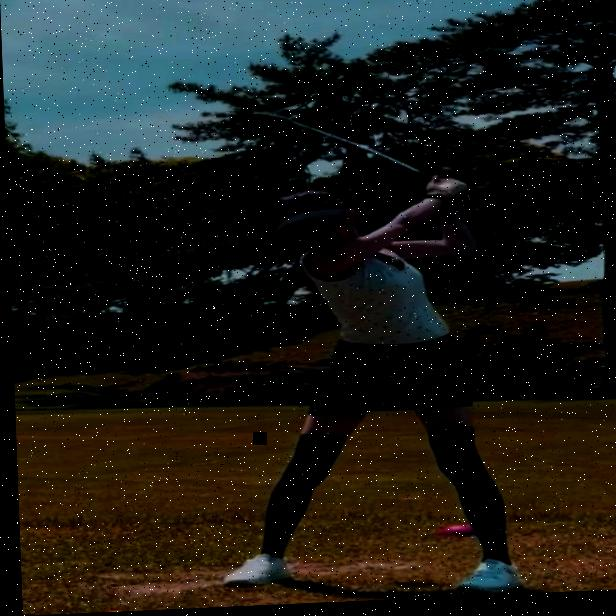ClubHead: (242, 113, 290, 143)
